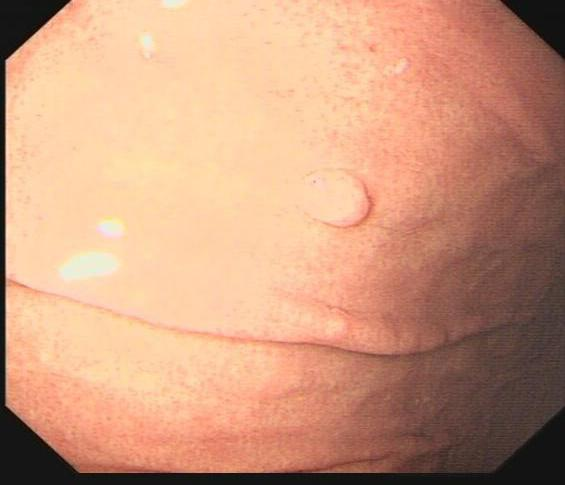Polyp: (294, 168, 375, 232)
